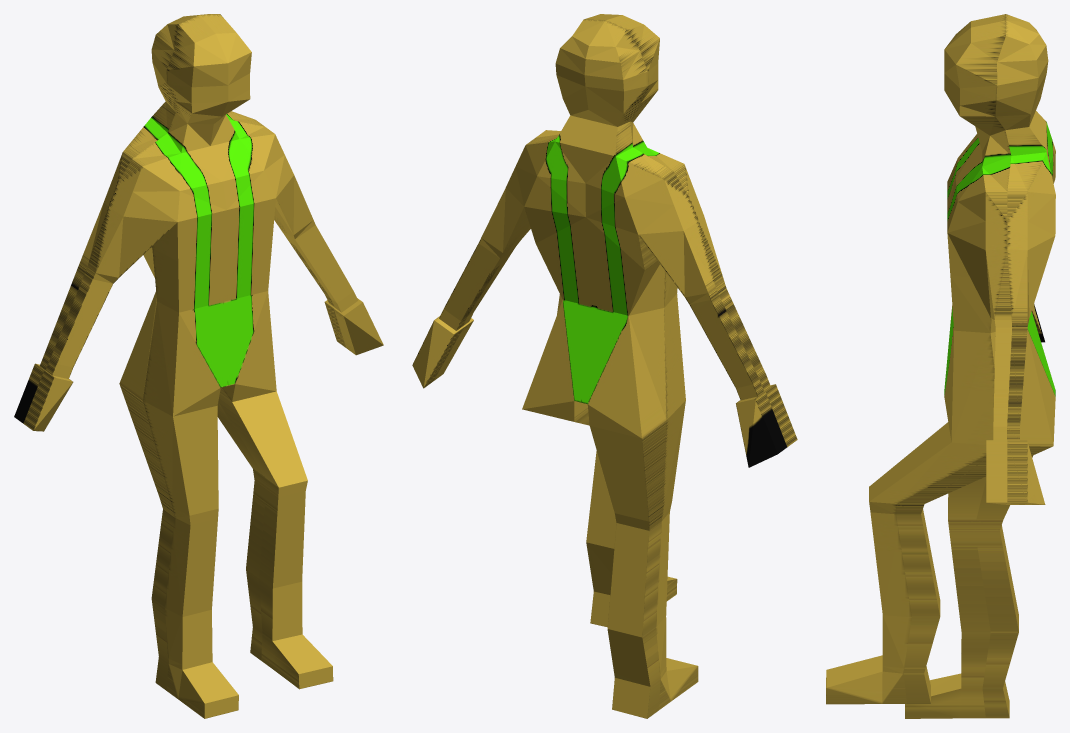
3 renders of one model, left to right at view 1: azimuth 30°, elevation 25°; view 2: azimuth 150°, elevation 25°; view 3: azimuth 270°, elevation 25°, orthographic. The views are drawn at different scales.
Visible parts, largest first — view 1: Borat; view 2: Borat; view 3: Borat.
Part boxes in pixels (bbox=[...]): Borat: bbox=[14, 14, 383, 718]; Borat: bbox=[412, 14, 797, 718]; Borat: bbox=[826, 14, 1055, 718].
Bounding box in the file's own units: 1.79 × 3.21 × 0.9511.
